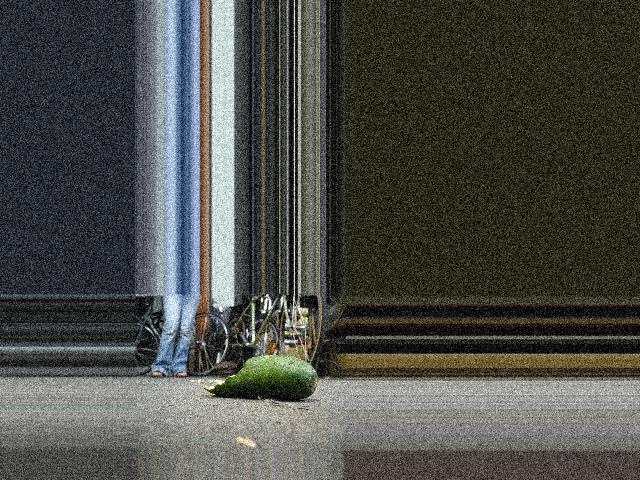cucumber: (202, 355, 317, 399)
